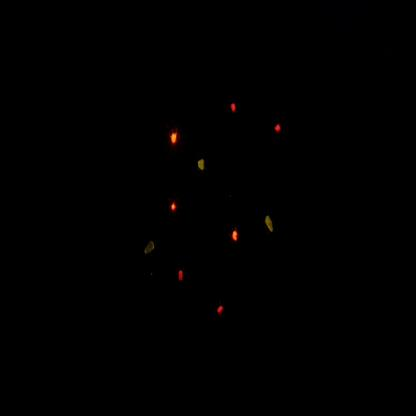PET: (225, 96, 246, 124), (211, 294, 228, 328), (174, 259, 188, 291), (271, 115, 286, 143)
PP: (139, 229, 165, 270), (258, 208, 281, 243), (194, 149, 212, 180)
PVC: (226, 218, 246, 253), (166, 121, 186, 154), (166, 195, 183, 220)
